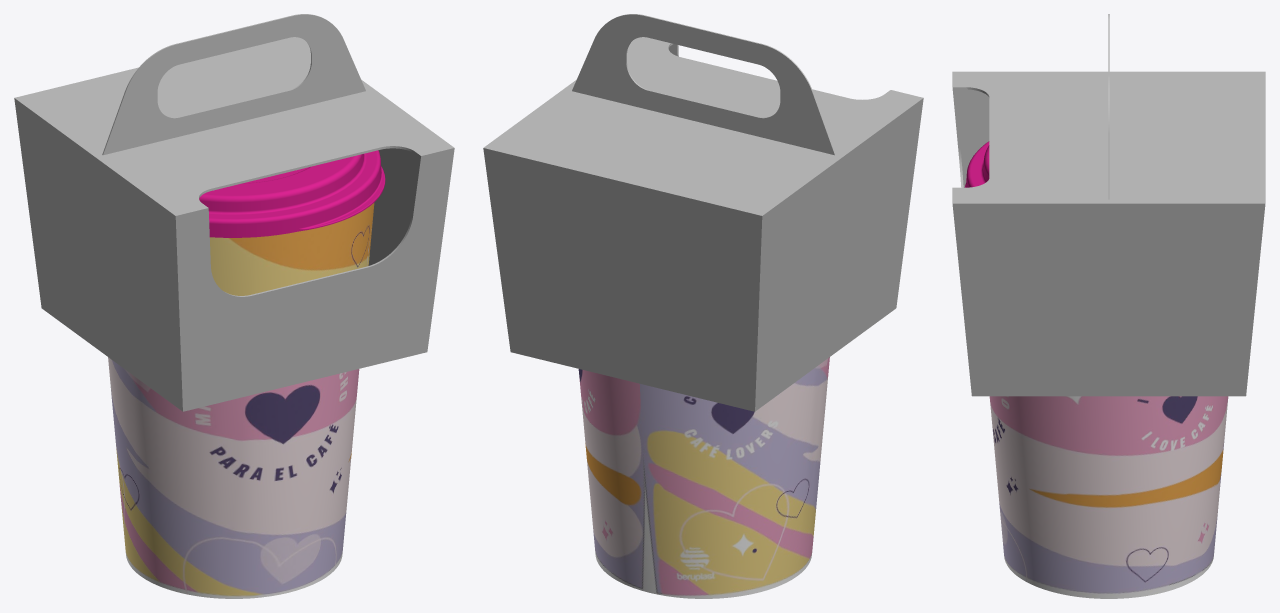
File: Sombrero_011.glb
The picture shows the model from 3 angles, left to right: view 1: azimuth 30°, elevation 25°; view 2: azimuth 150°, elevation 25°; view 3: azimuth 270°, elevation 25°; orthographic projection. The views are drawn at different scales.
Parts seen in each view (by area): view 1: object_2_n3d, object_1%2E002_n3d, object_1_n3d, tapa pico; view 2: object_2_n3d, object_1%2E002_n3d, object_1_n3d; view 3: object_2_n3d, object_1%2E002_n3d, tapa pico.
Boxes of the visible parts, left/top/right/bottom form: object_2_n3d: left=14, top=37, right=454, bottom=411; object_1%2E002_n3d: left=108, top=203, right=374, bottom=598; object_1_n3d: left=102, top=14, right=365, bottom=155; tapa pico: left=199, top=150, right=385, bottom=237; object_2_n3d: left=483, top=37, right=923, bottom=411; object_1%2E002_n3d: left=578, top=357, right=829, bottom=598; object_1_n3d: left=572, top=14, right=835, bottom=155; object_2_n3d: left=952, top=71, right=1265, bottom=396; object_1%2E002_n3d: left=989, top=396, right=1228, bottom=598; tapa pico: left=964, top=141, right=989, bottom=187.
Bounding box in the file's own units: 1.27 × 2.27 × 1.27.
4 materials, 1 textured.
